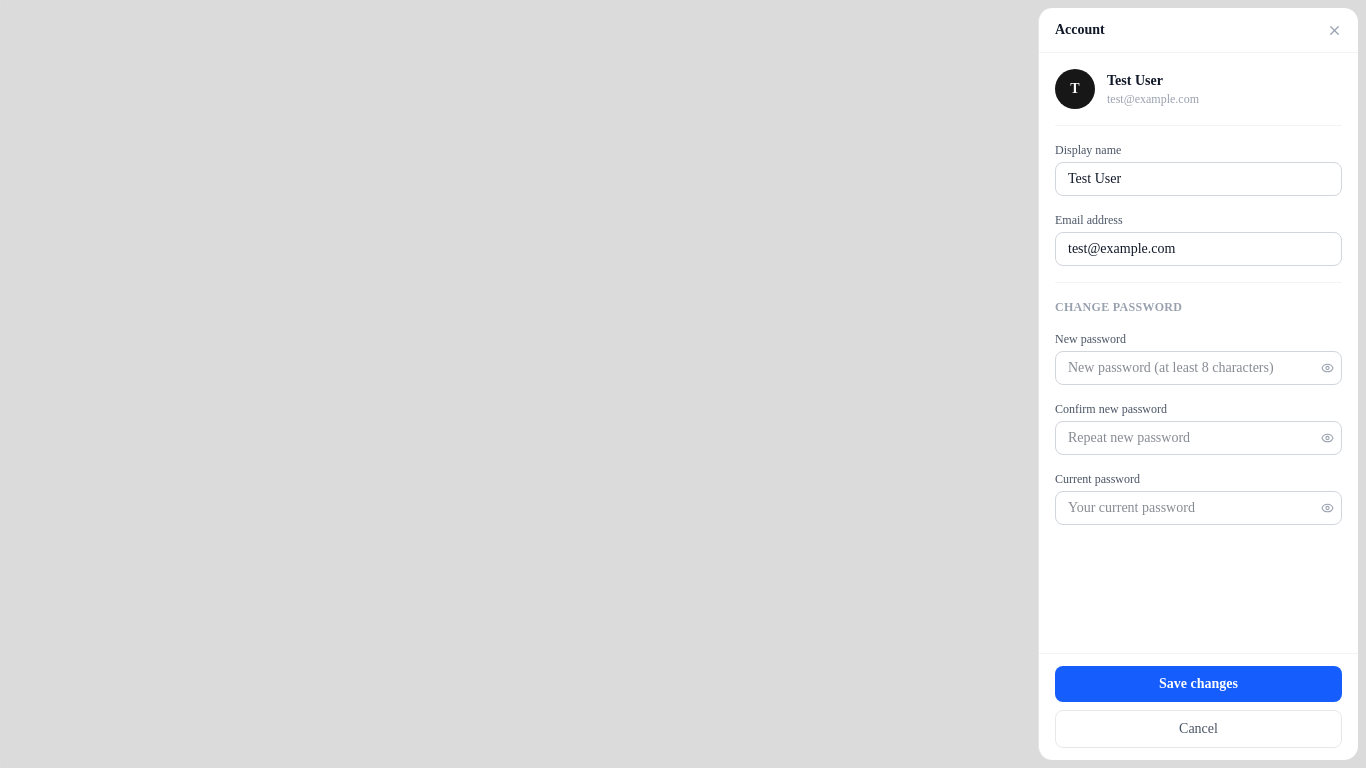
Test: AccountSheet › shows validation error when passwords don't match
In the password field with placeholder "New password (at least 8 characters)": (1198, 368) [1055,351,1342,385], type "newpassword1"
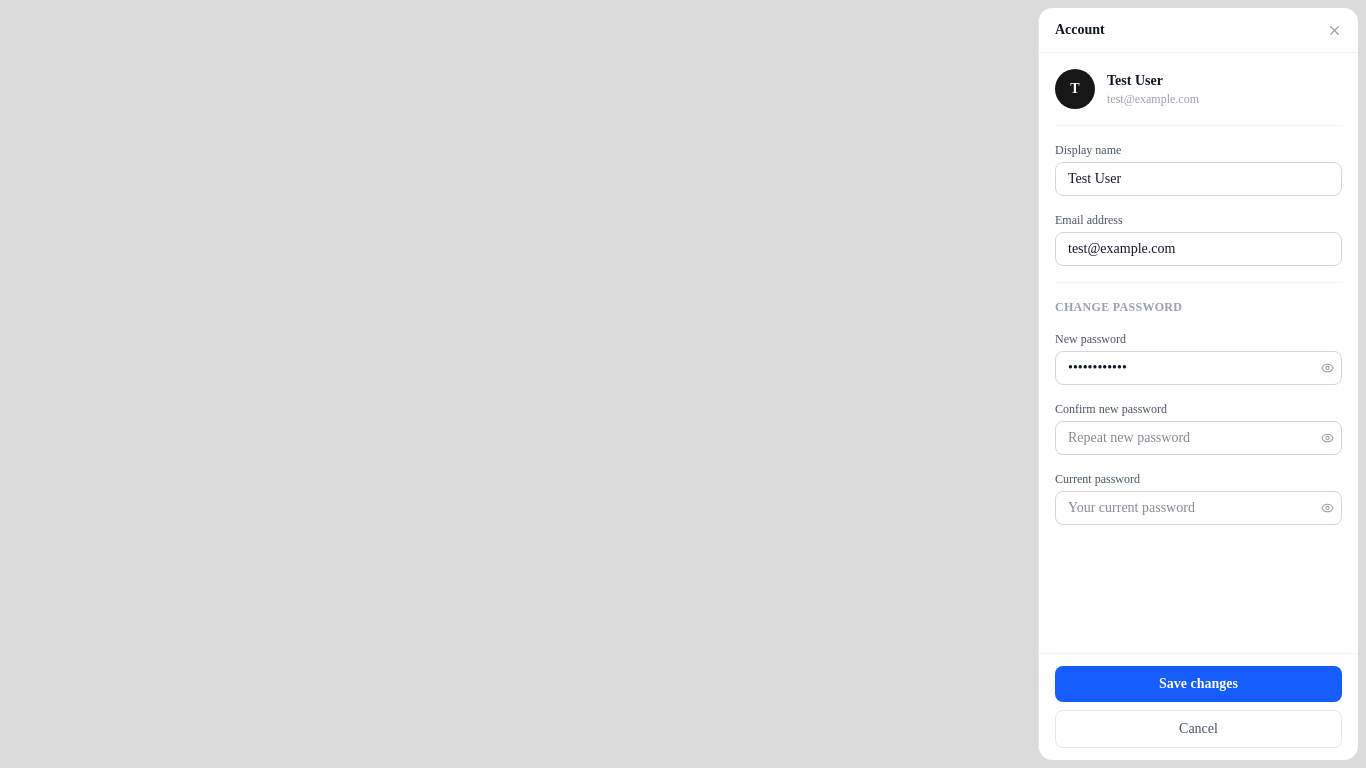
In the password field with placeholder "Repeat new password": (1198, 438) [1055,421,1342,455], type "differentpass"
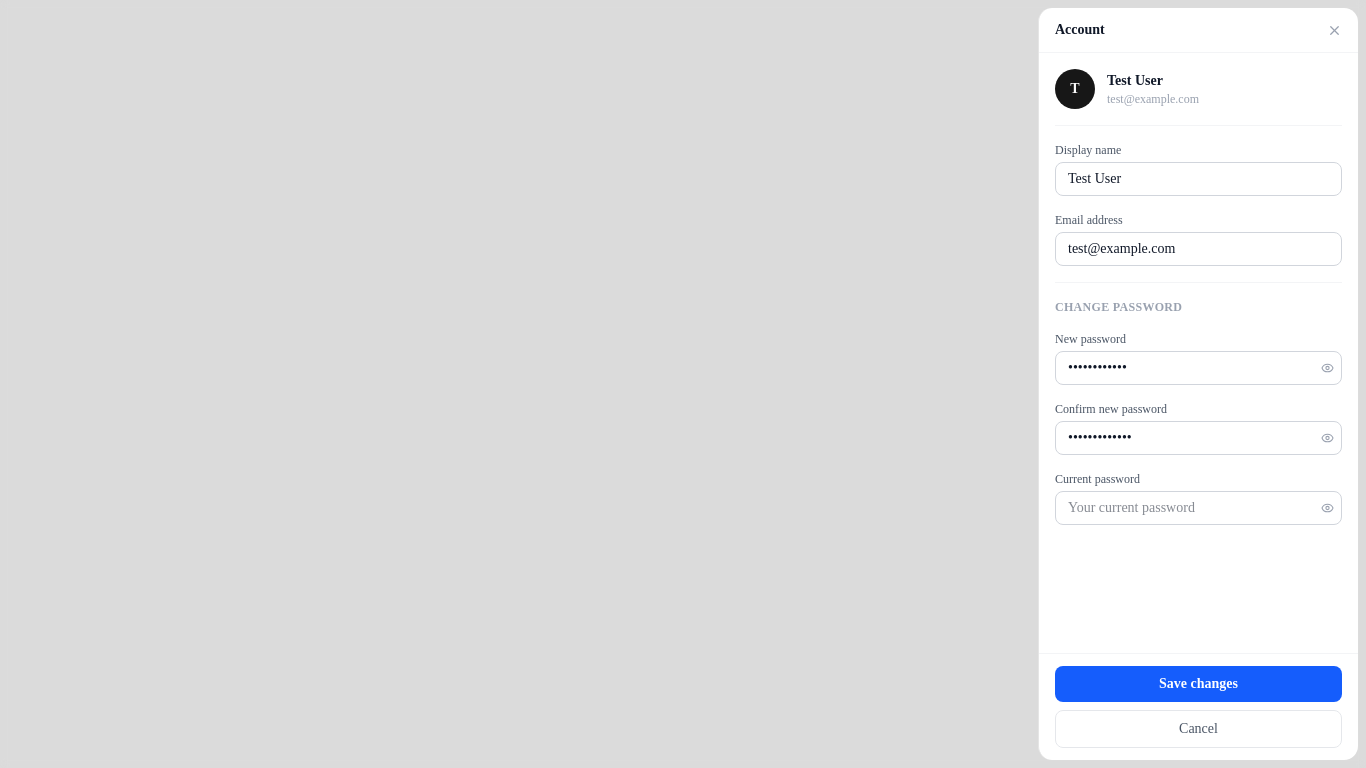
Click the button "Save changes": (1198, 684) [1055,666,1342,702]
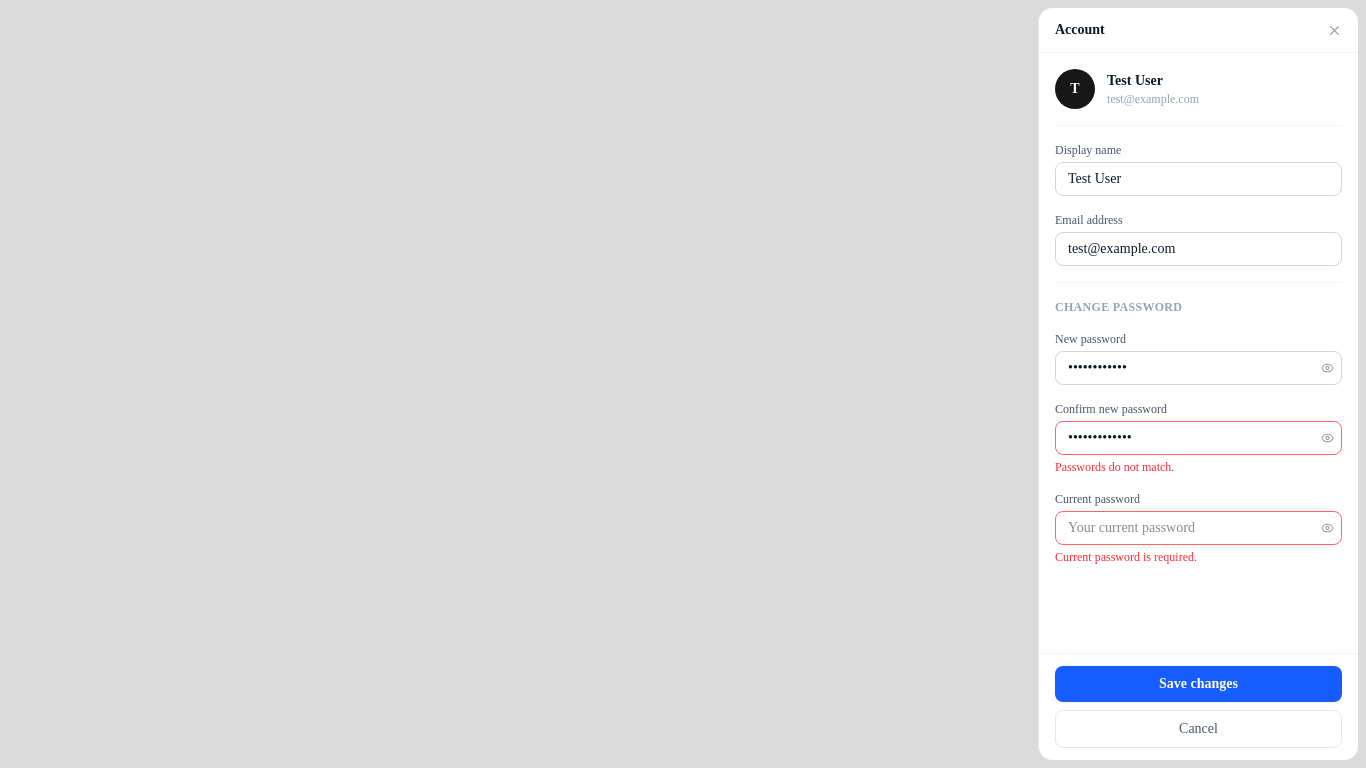
Check: the text "Passwords do not match." is shown, box [1055,460,1174,474]
